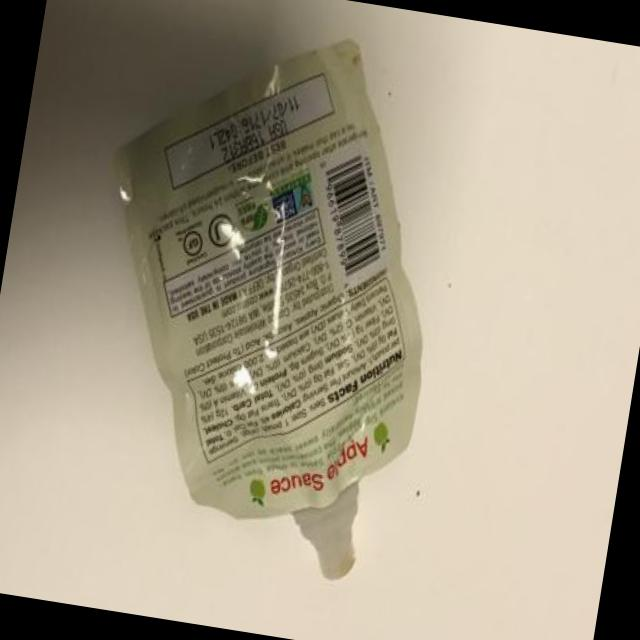tui_ni_long: (111, 36, 424, 583)
